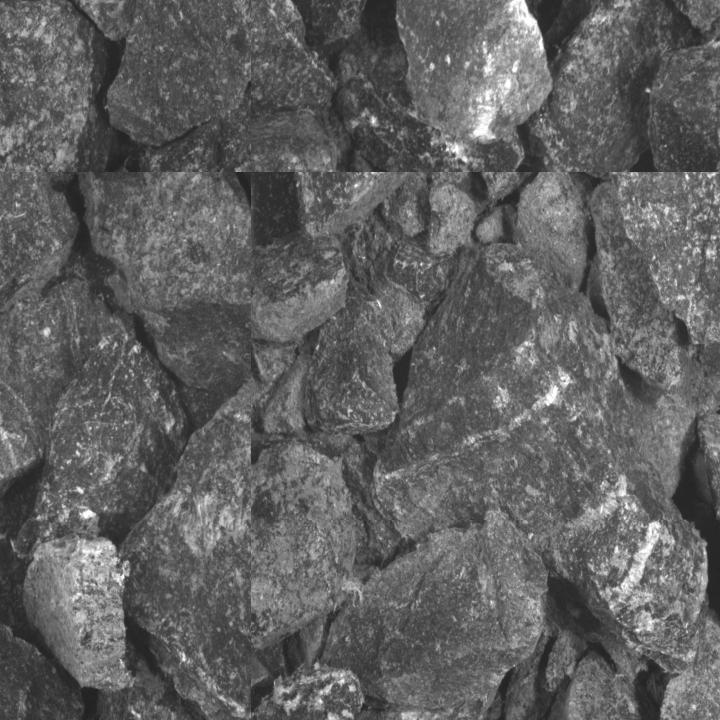stone: (371, 240, 706, 672), (6, 308, 197, 562), (115, 395, 250, 719), (322, 520, 549, 704), (81, 172, 250, 389), (518, 0, 706, 171), (338, 0, 526, 171), (0, 270, 109, 524), (397, 0, 552, 146), (251, 441, 357, 648), (106, 0, 250, 146), (592, 184, 692, 388), (604, 172, 719, 346), (0, 0, 112, 171), (23, 538, 134, 688), (251, 172, 465, 245), (251, 0, 339, 171), (0, 172, 76, 365), (302, 305, 397, 435), (251, 672, 499, 719), (0, 581, 84, 719), (134, 74, 250, 171), (65, 662, 250, 719), (251, 245, 346, 339), (514, 172, 591, 284), (546, 648, 656, 719), (355, 218, 450, 294), (654, 612, 719, 719), (380, 172, 470, 240), (349, 275, 422, 355), (466, 172, 622, 207), (426, 182, 480, 256), (257, 350, 304, 430), (476, 206, 514, 239)
